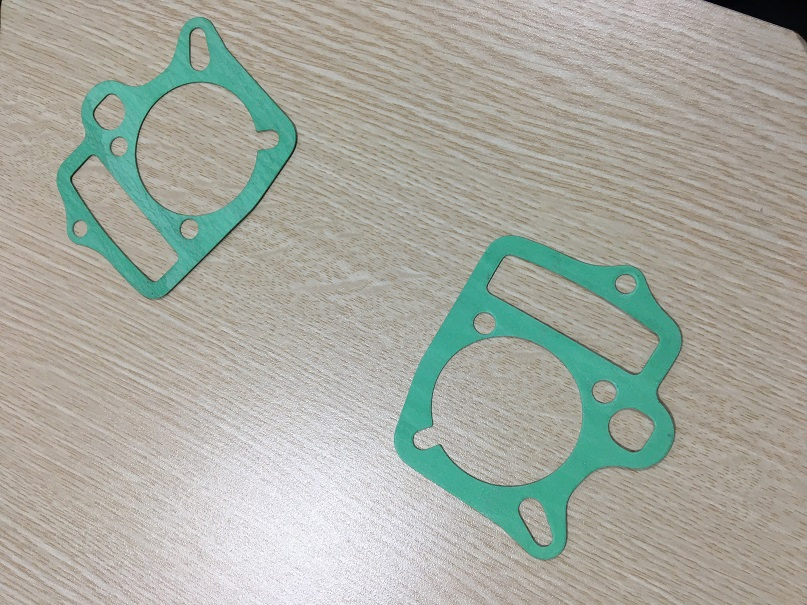type4: (382, 220, 693, 571), (52, 14, 313, 310)
